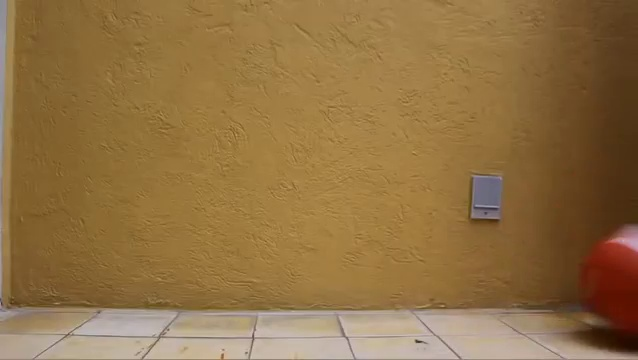ball: (577, 224, 638, 341)
